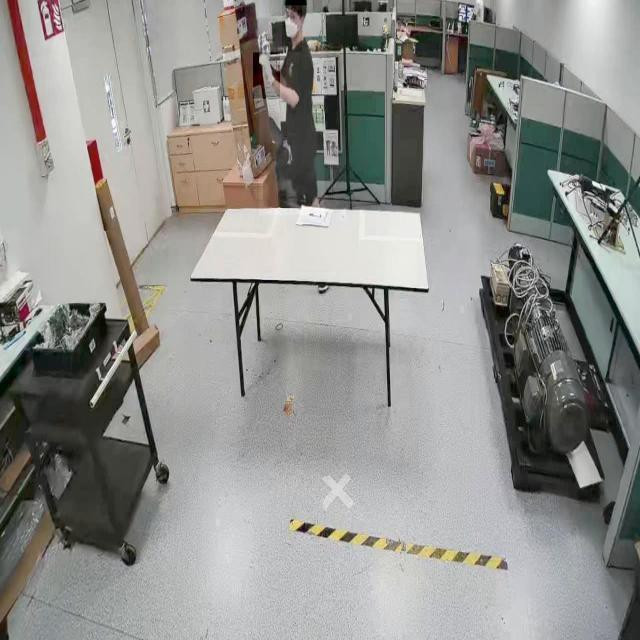gloves: (253, 52, 281, 100)
